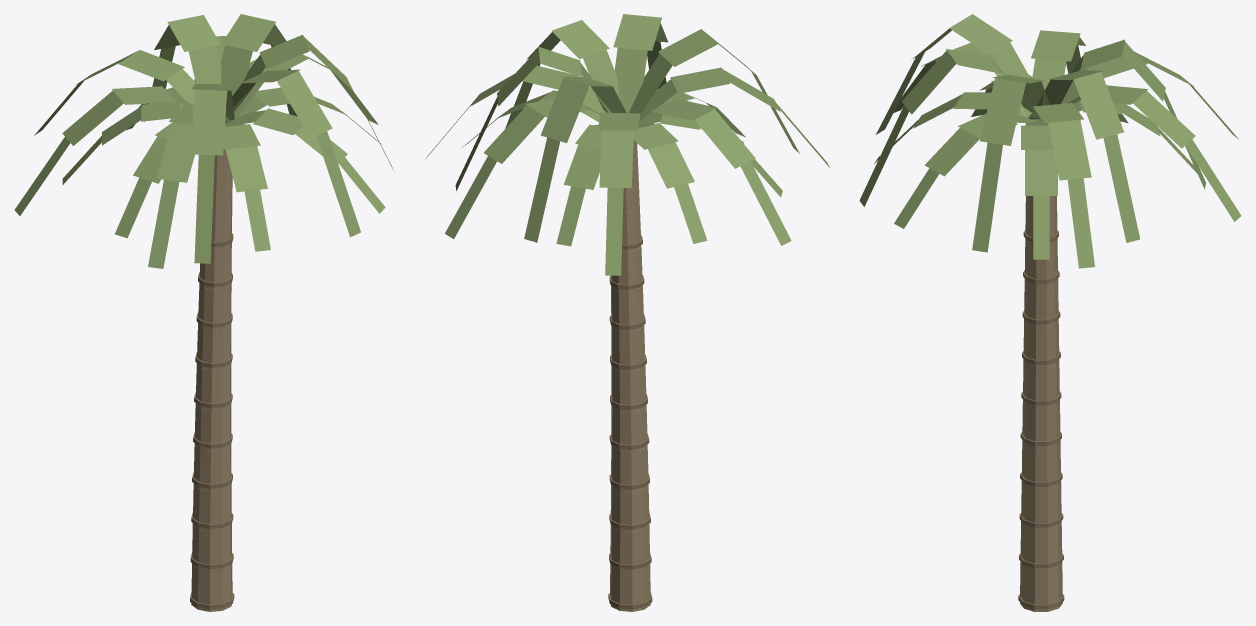
The model's file is tree_palm_a.glb.
3 views of the same model, side by side, from view 1: azimuth 30°, elevation 25°; view 2: azimuth 150°, elevation 25°; view 3: azimuth 270°, elevation 25° (orthographic). The views are drawn at different scales.
Parts seen in each view (by area): view 1: LOD0; view 2: LOD0; view 3: LOD0.
Boxes of the visible parts, x1=… form: LOD0: x1=14, y1=14, x2=393, y2=611; LOD0: x1=425, y1=14, x2=830, y2=611; LOD0: x1=859, y1=14, x2=1241, y2=611.
Bounding box in the file's own units: 4.76 × 6.91 × 4.26.
